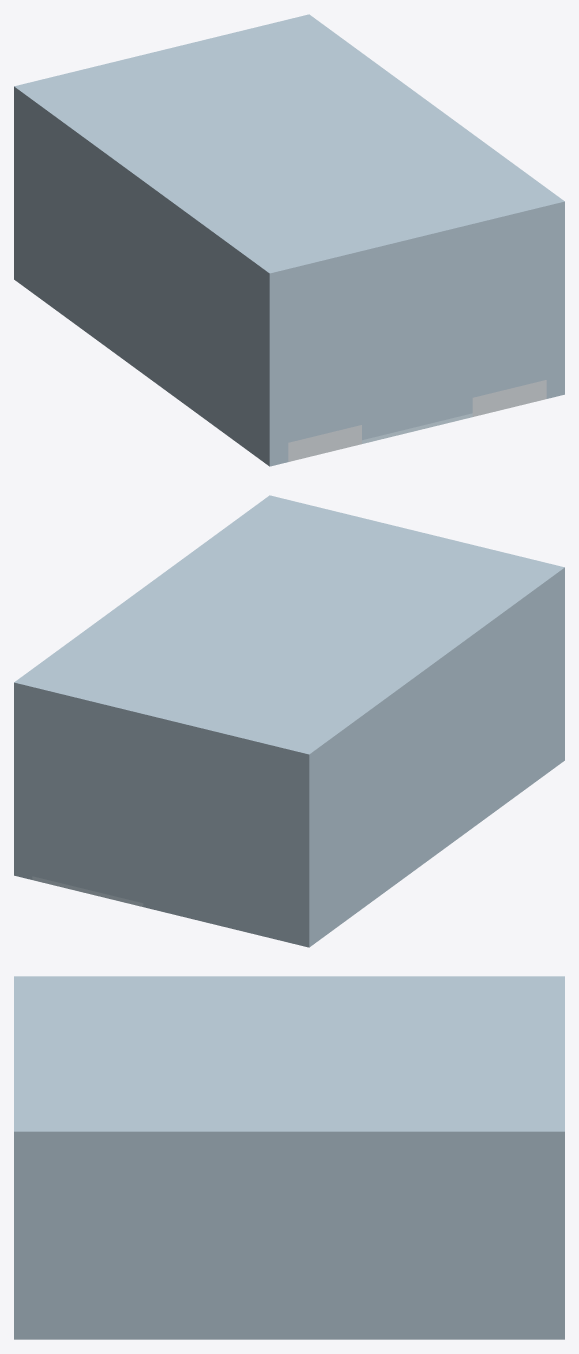
Rendered from frozen-narrows.glb.
3 views of the same model, one above another, from view 1: azimuth 30°, elevation 25°; view 2: azimuth 150°, elevation 25°; view 3: azimuth 270°, elevation 25° (orthographic). The views are drawn at different scales.
Visible parts, largest first — view 1: ice-rock_9, plug_frozen_south, ice-rock_6, ice-rock_1, ice-rock_8, ice-rock_3, ice-rock_4, ice-rock_5, ice-rock_2, plug_frozen_south.001, snow_1, snow_3 (+2 smaller); view 2: ice-rock_9, ice-rock_1, ice-rock_6, plug_slide_north, ice-rock_3, ice-rock_4, ice-rock_5, ice-rock_2, ice-rock_7, plug_slide_north.001; view 3: ice-rock_2, ice-rock_9.
Boxes of the visible parts, box(x1,y1,x2,y2) form: ice-rock_9: box(14, 14, 564, 292); plug_frozen_south: box(288, 244, 546, 442); ice-rock_6: box(173, 223, 288, 466); ice-rock_1: box(14, 106, 109, 349); ice-rock_8: box(288, 225, 546, 307); ice-rock_3: box(110, 176, 131, 364); ice-rock_4: box(131, 192, 152, 380); ice-rock_5: box(152, 207, 173, 395); ice-rock_2: box(546, 221, 564, 398); plug_frozen_south.001: box(362, 398, 472, 440); snow_1: box(509, 380, 546, 407); snow_3: box(472, 389, 509, 416); ice-rock_9: box(14, 495, 564, 773); ice-rock_1: box(143, 704, 405, 947); ice-rock_6: box(469, 587, 564, 830); plug_slide_north: box(32, 725, 143, 887); ice-rock_3: box(405, 688, 426, 876); ice-rock_4: box(426, 673, 447, 861); ice-rock_5: box(447, 657, 468, 845); ice-rock_2: box(14, 702, 32, 879); ice-rock_7: box(32, 706, 143, 752); plug_slide_north.001: box(32, 861, 143, 902); ice-rock_2: box(14, 1152, 564, 1339); ice-rock_9: box(14, 976, 564, 1152).
Size of the model in its own units: 8 by 5 by 12.
